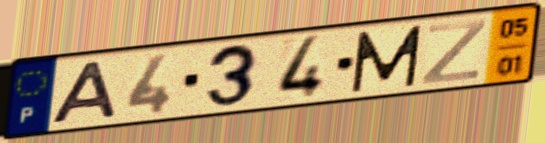3: (205, 41, 260, 111)
4: (272, 32, 328, 103), (123, 51, 175, 117)
A: (47, 58, 120, 127)
M: (348, 22, 426, 95)
Z: (418, 16, 491, 87)
